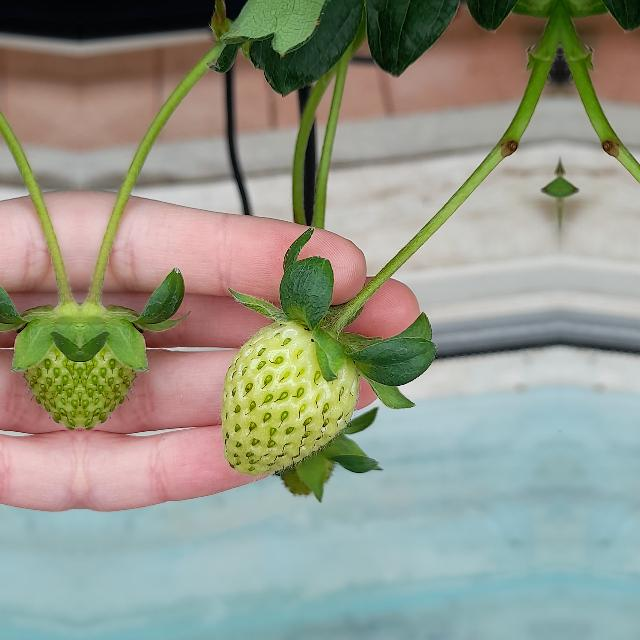Health_25: (221, 320, 359, 476), (80, 301, 152, 435), (8, 301, 80, 435)
